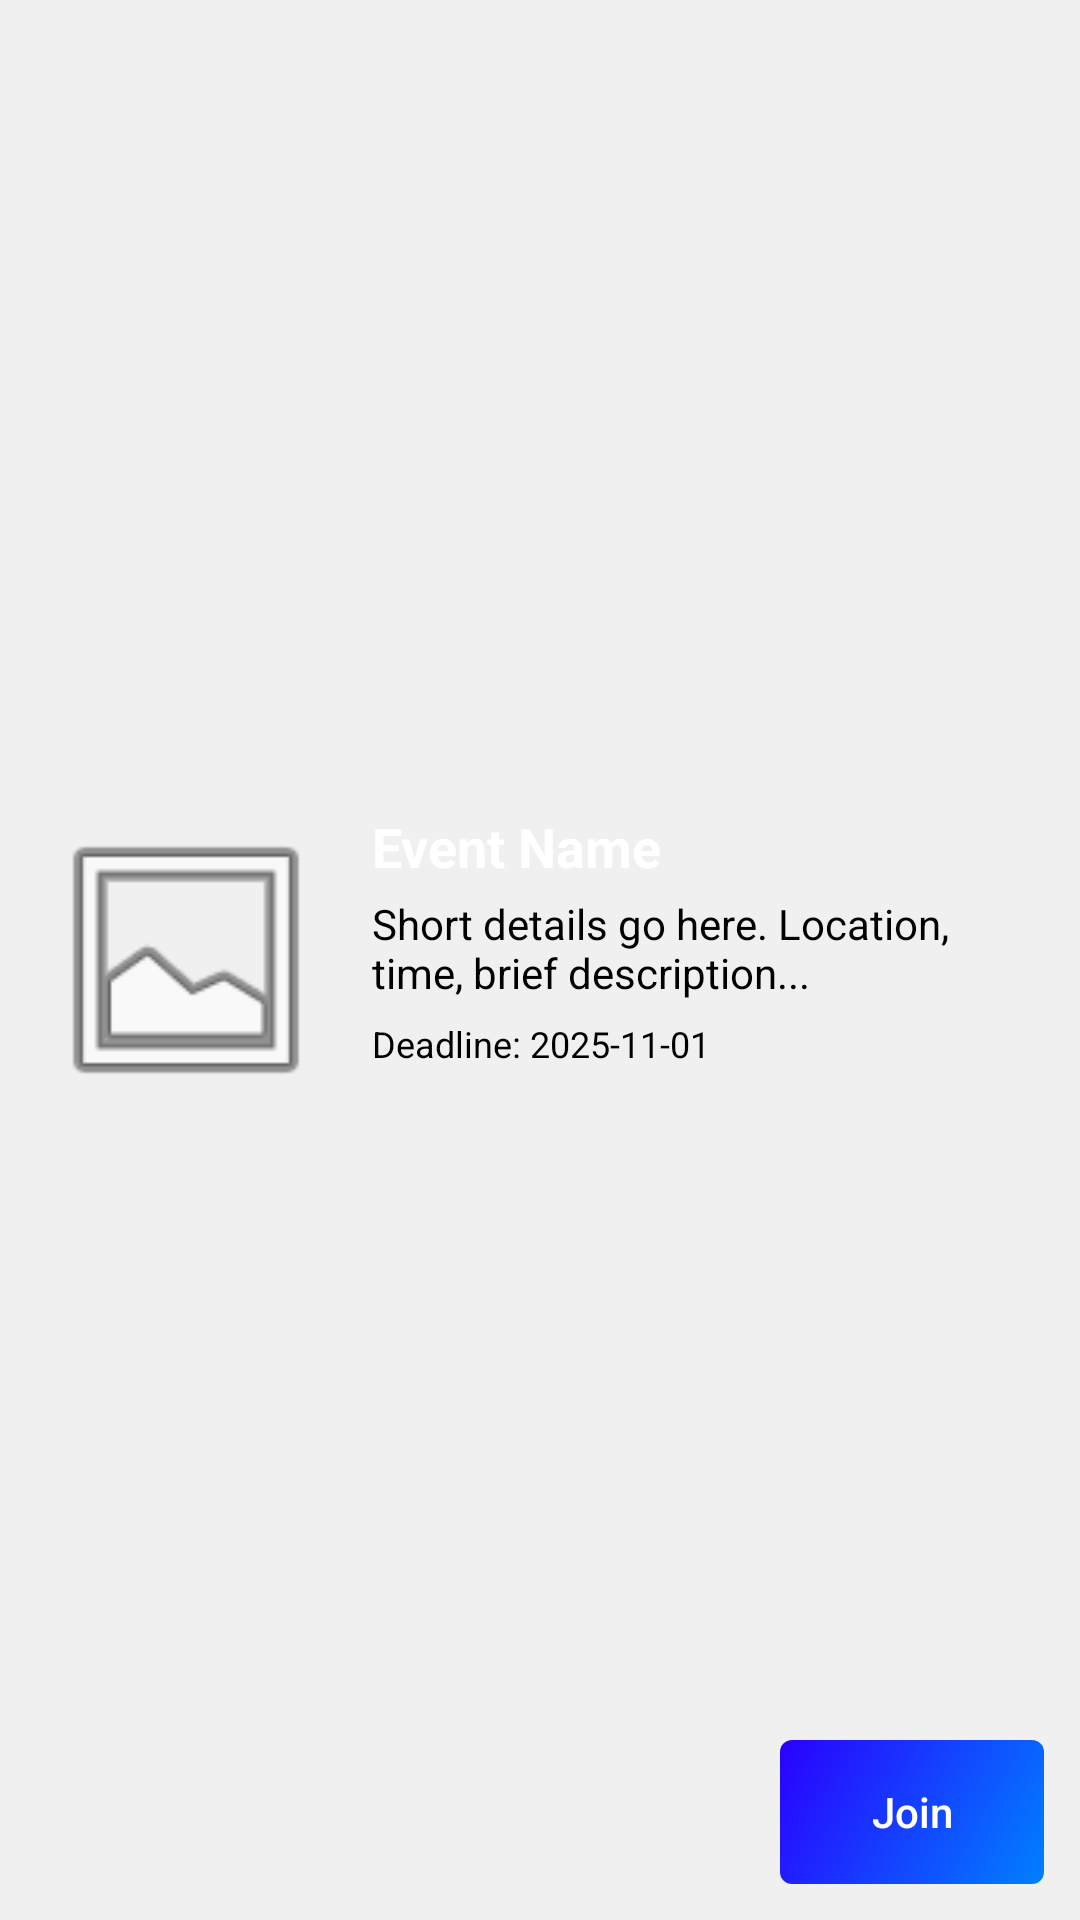

Named icons in this screenshot (1080px×1920px) and their bounding boxes, box(x1, y1, x2, y2):
gallery: box(72, 846, 300, 1074)
